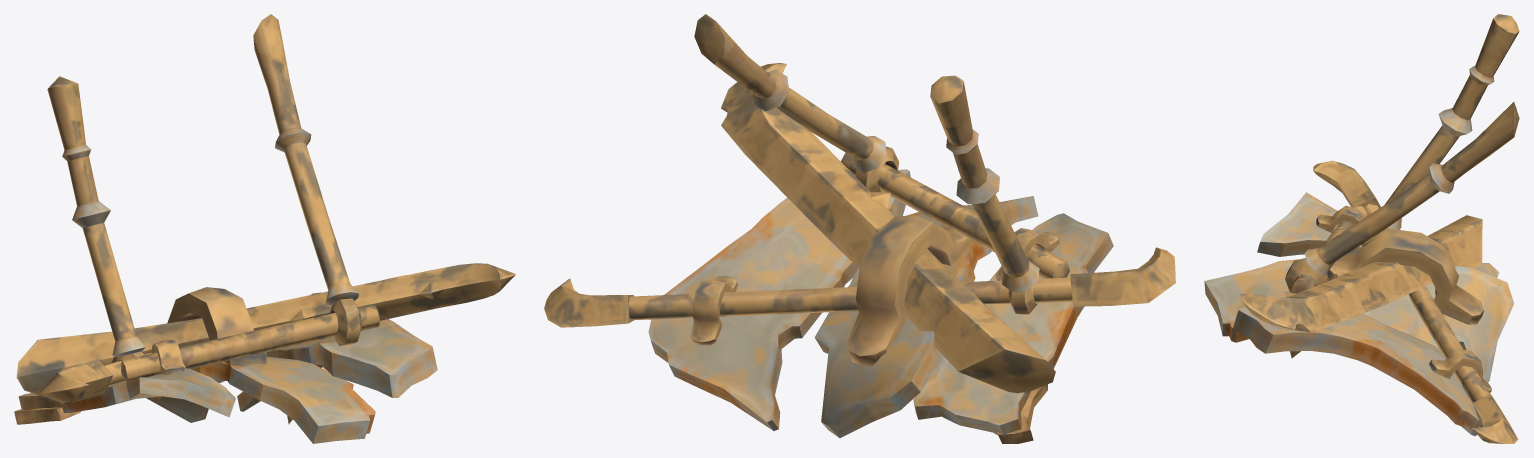
Rendered from HL_Barricade_E_DmgState_02_04.fbx.
3 renders of one model, left to right at view 1: azimuth 30°, elevation 25°; view 2: azimuth 150°, elevation 25°; view 3: azimuth 270°, elevation 25°, orthographic. The views are drawn at different scales.
Visible parts, largest first — view 1: HL_Barricade_E_DmgState_02_04; view 2: HL_Barricade_E_DmgState_02_04; view 3: HL_Barricade_E_DmgState_02_04.
Boxes of the visible parts, bbox=[...] form: HL_Barricade_E_DmgState_02_04: bbox=[14, 14, 515, 443]; HL_Barricade_E_DmgState_02_04: bbox=[544, 14, 1175, 443]; HL_Barricade_E_DmgState_02_04: bbox=[1204, 14, 1519, 443].
Size of the model in its own units: 460 by 345 by 290.
